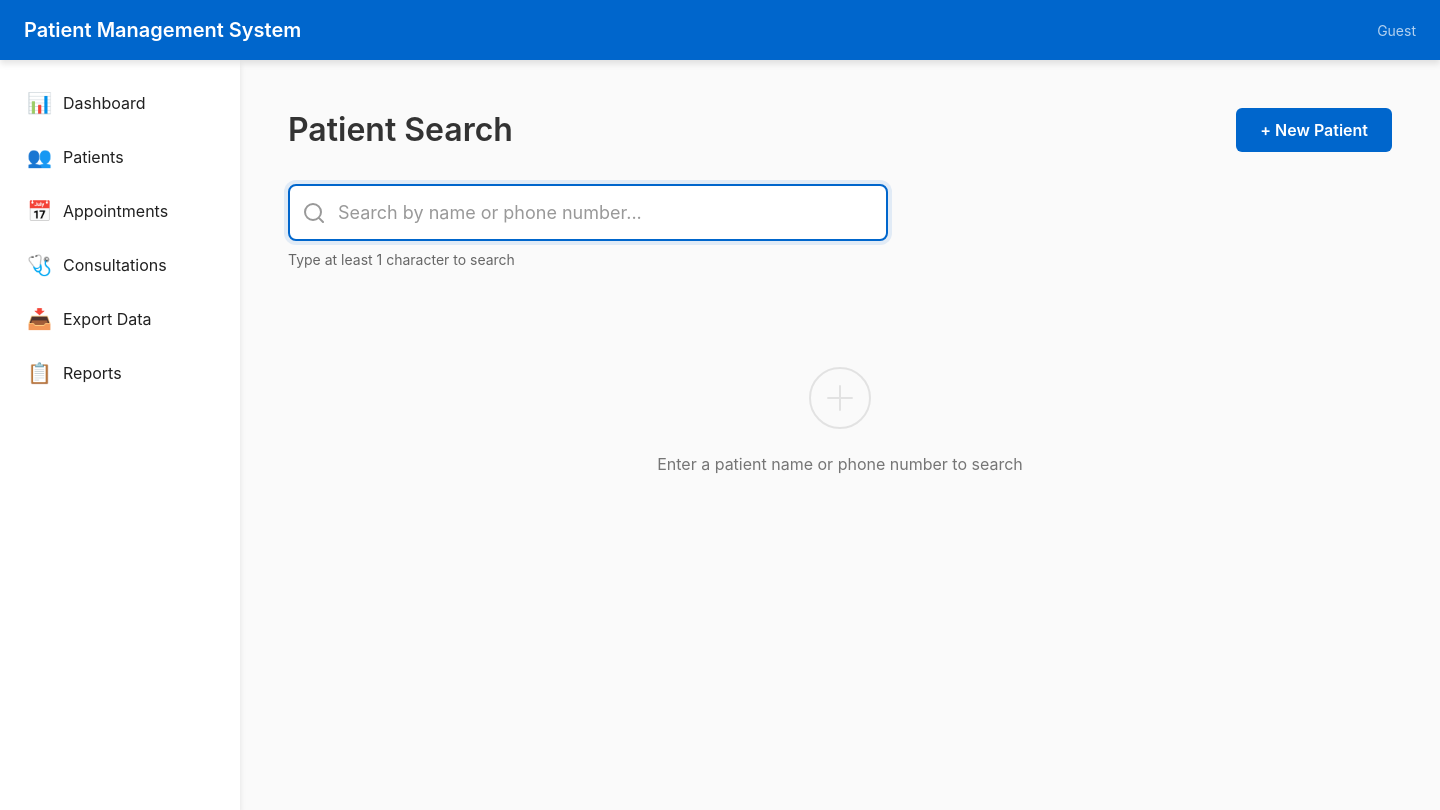
it: PatientSearchPage › should display patient count when results found
The image size is (1440, 810).
Type "John" into the field with placeholder "Search by name or phone number...".
click(588, 212); type("John")  # box [288,184,888,241]
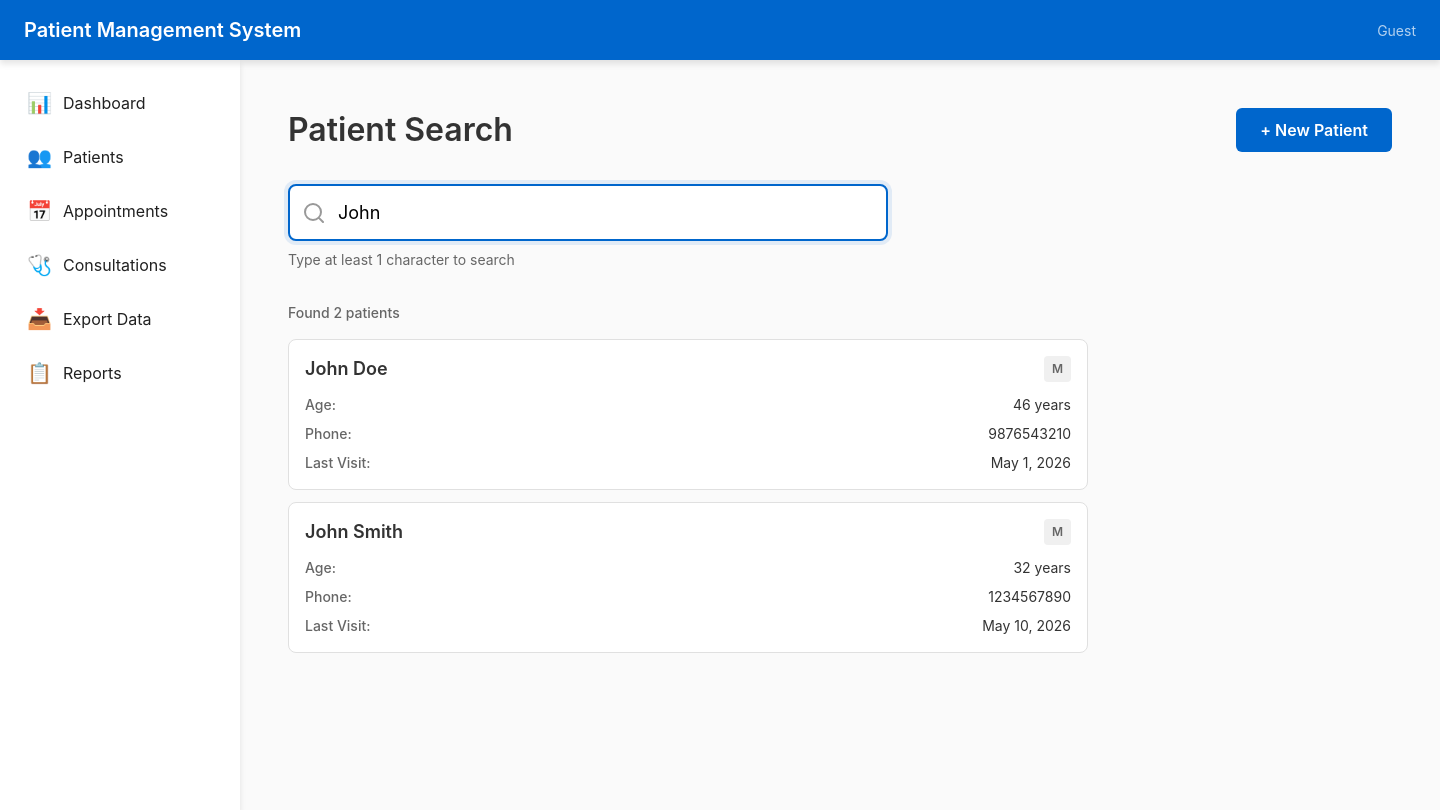
Expected: the heading "John Doe" is shown, [305,358,388,380]
